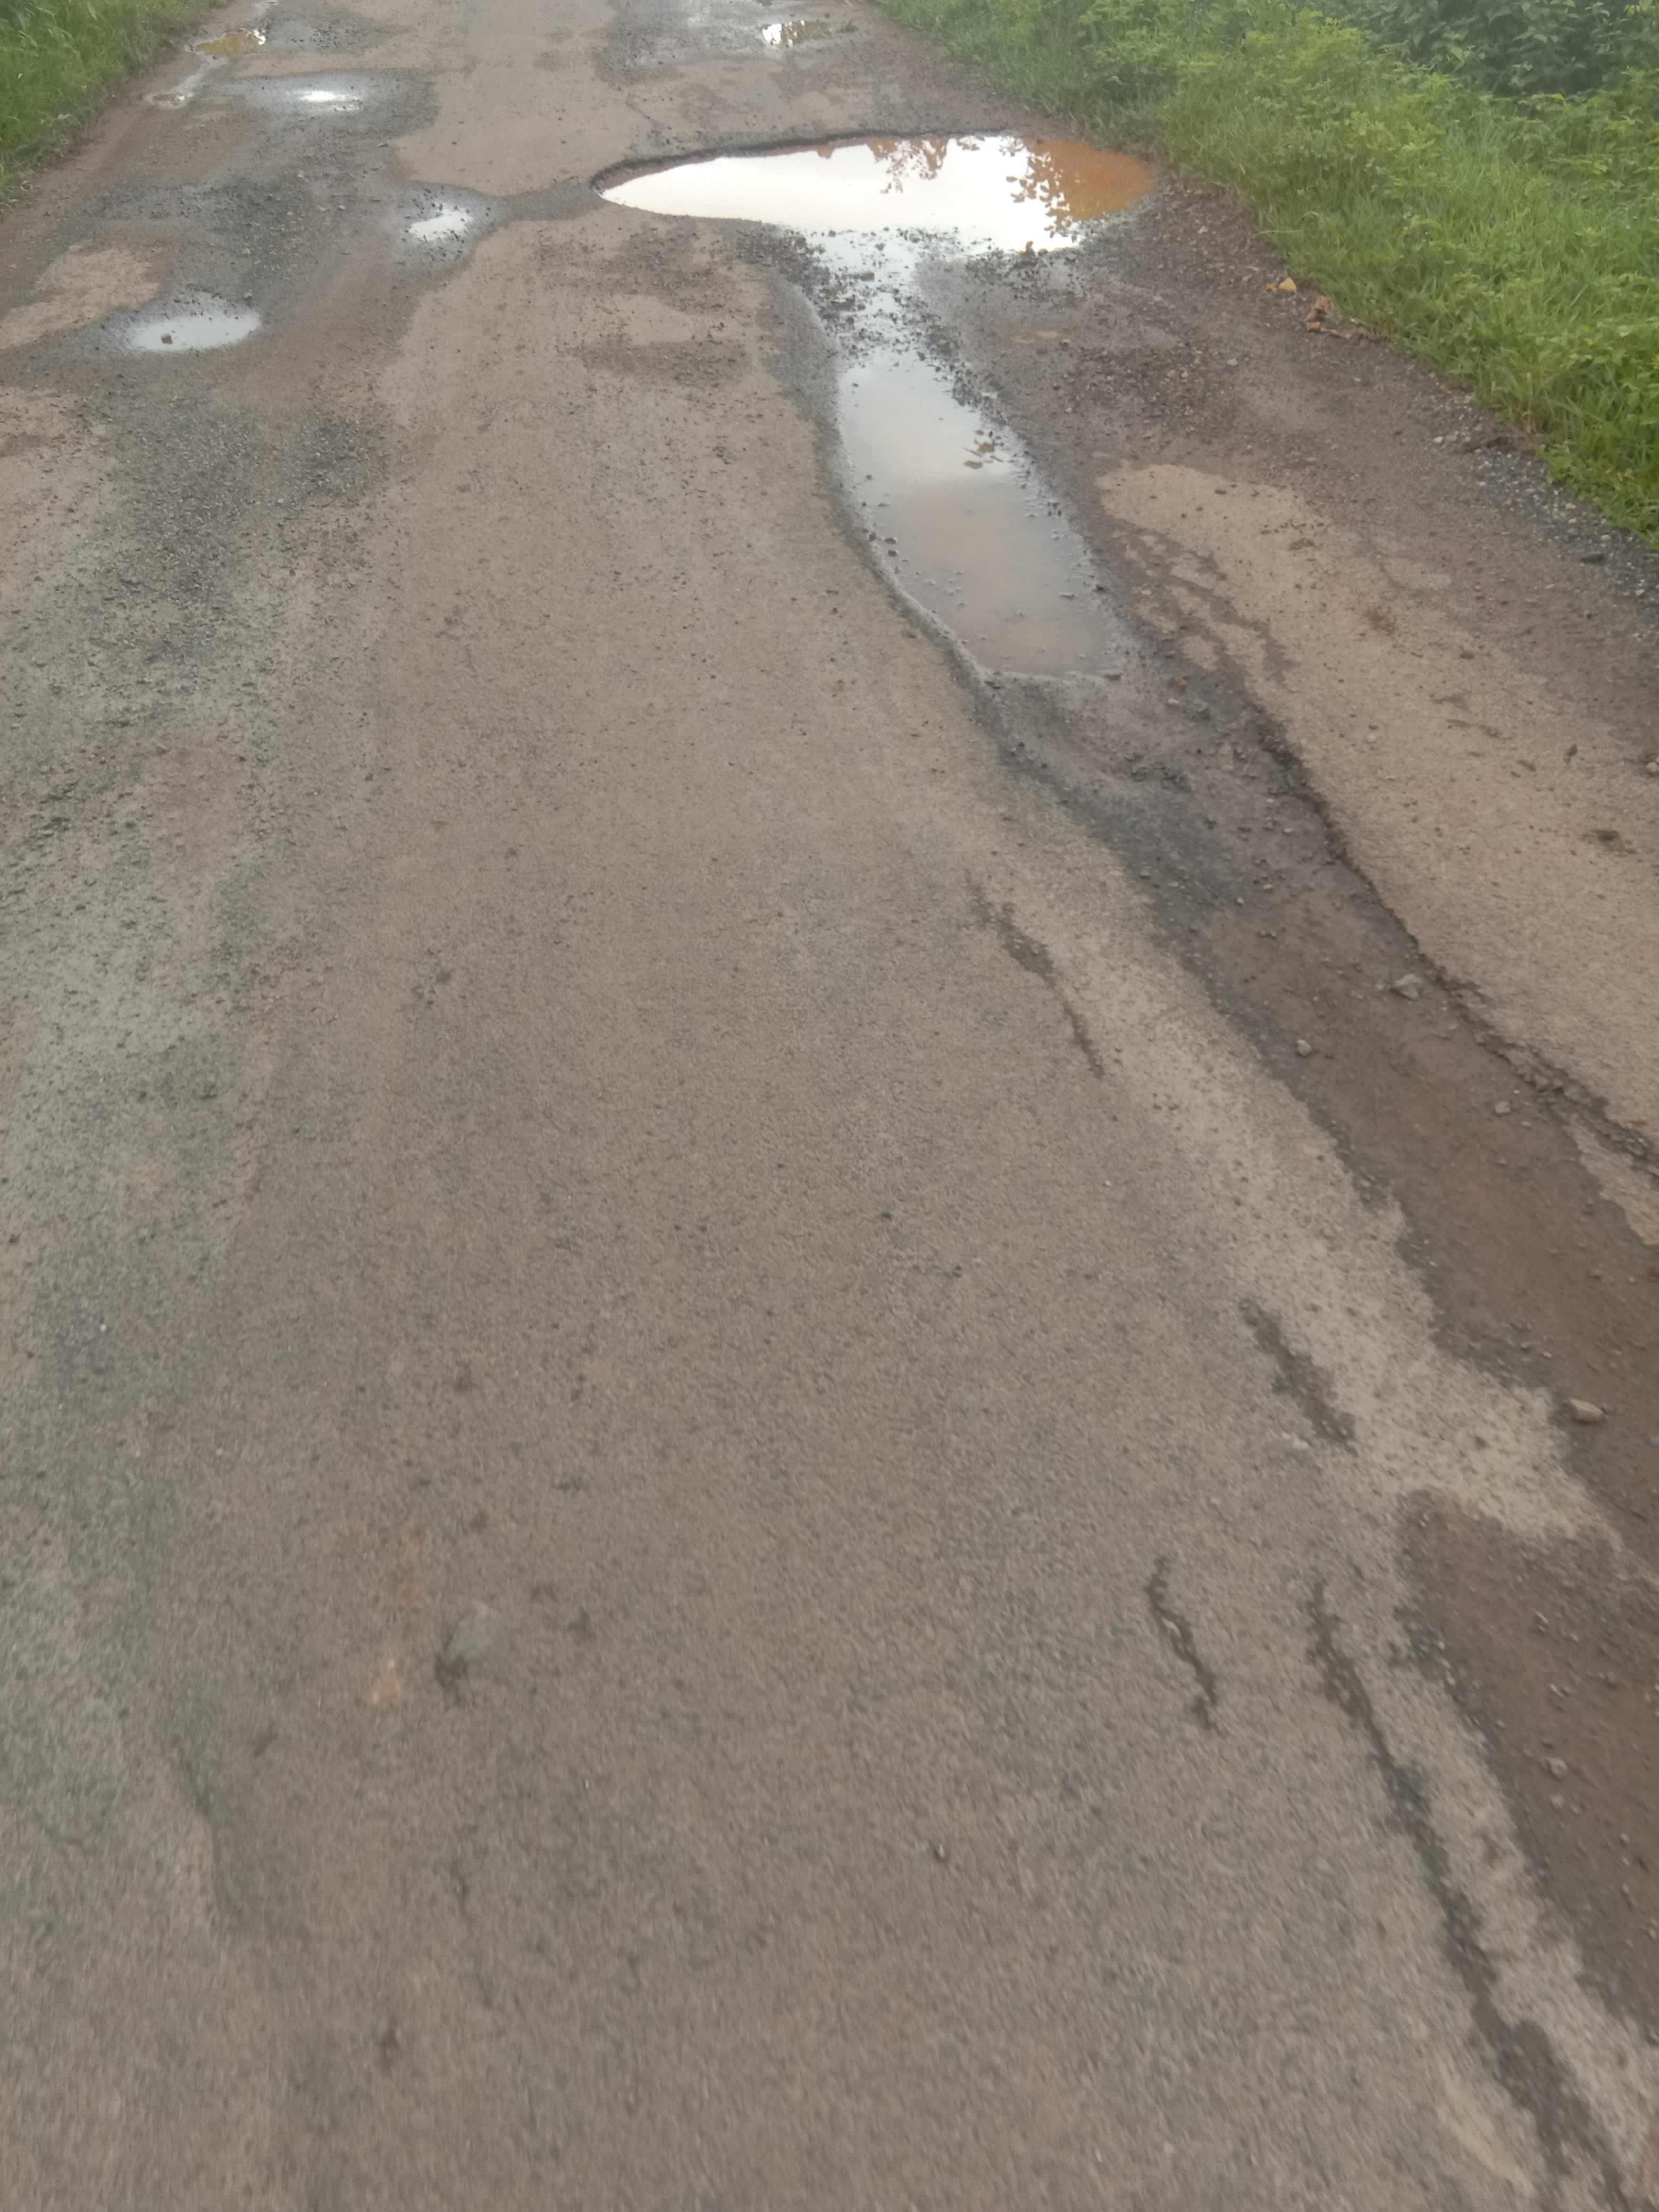potholes: (579, 117, 1659, 1531), (84, 64, 427, 383)
